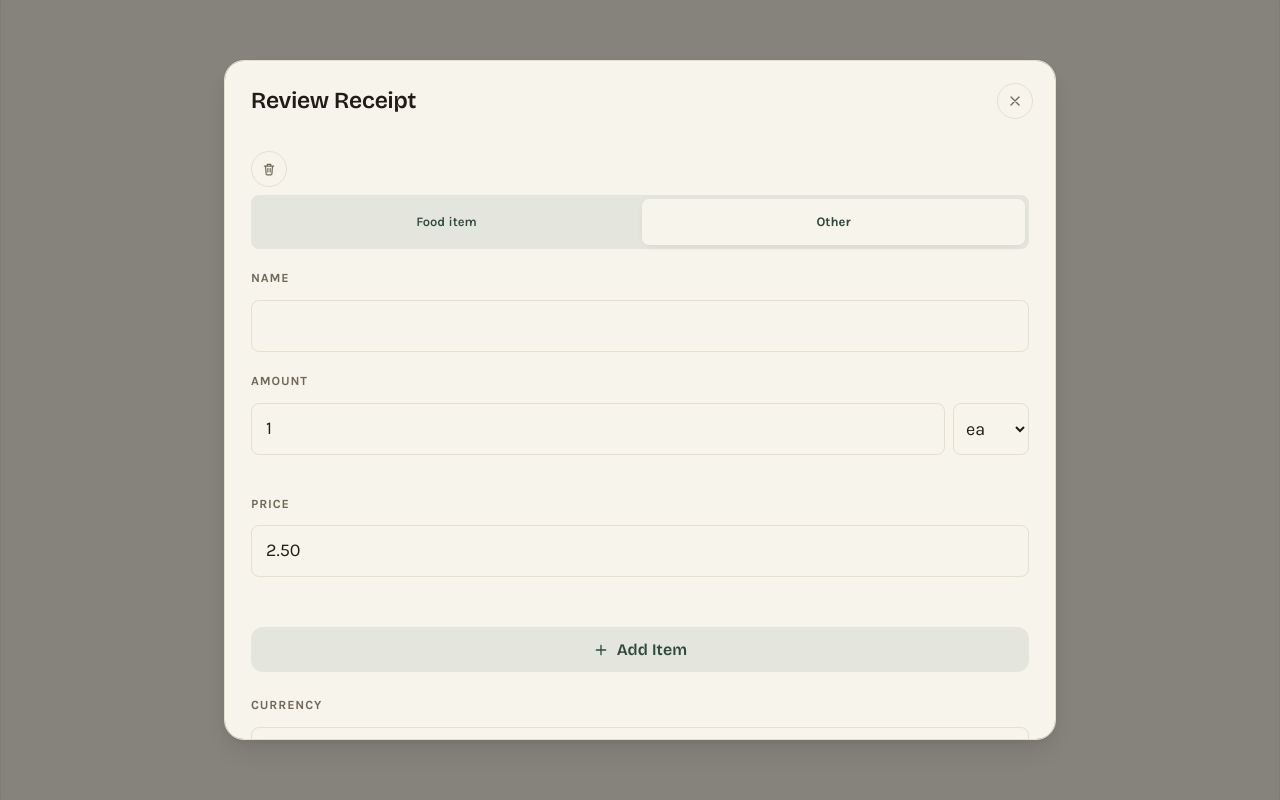
Test: ReceiptReviewModal — "Other" row also gets a search autocomplete › fills the name field when a suggestion is clicked
Type "garb" into the field labelled "Name". click: (640, 326)
box: [251, 300, 1029, 352]
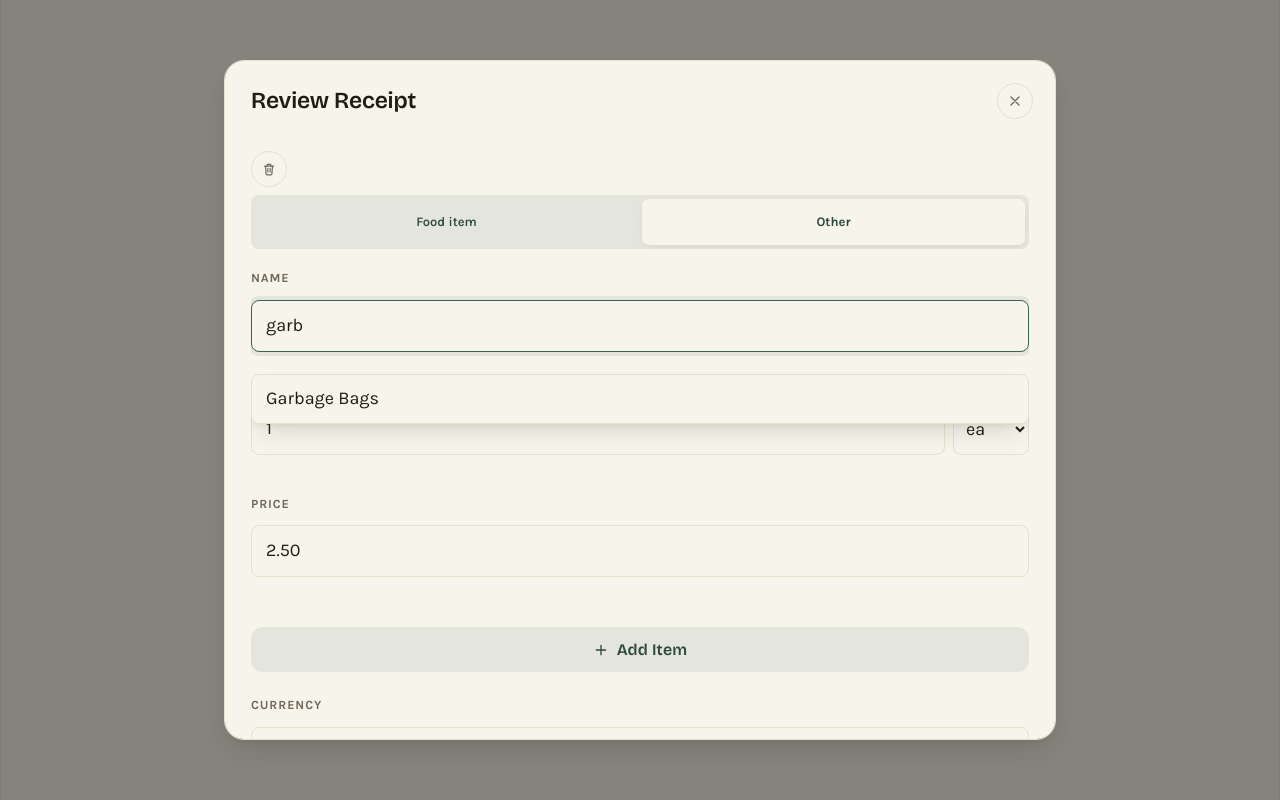
Click the button "Garbage Bags". click: (322, 398)
box: [252, 375, 1028, 423]
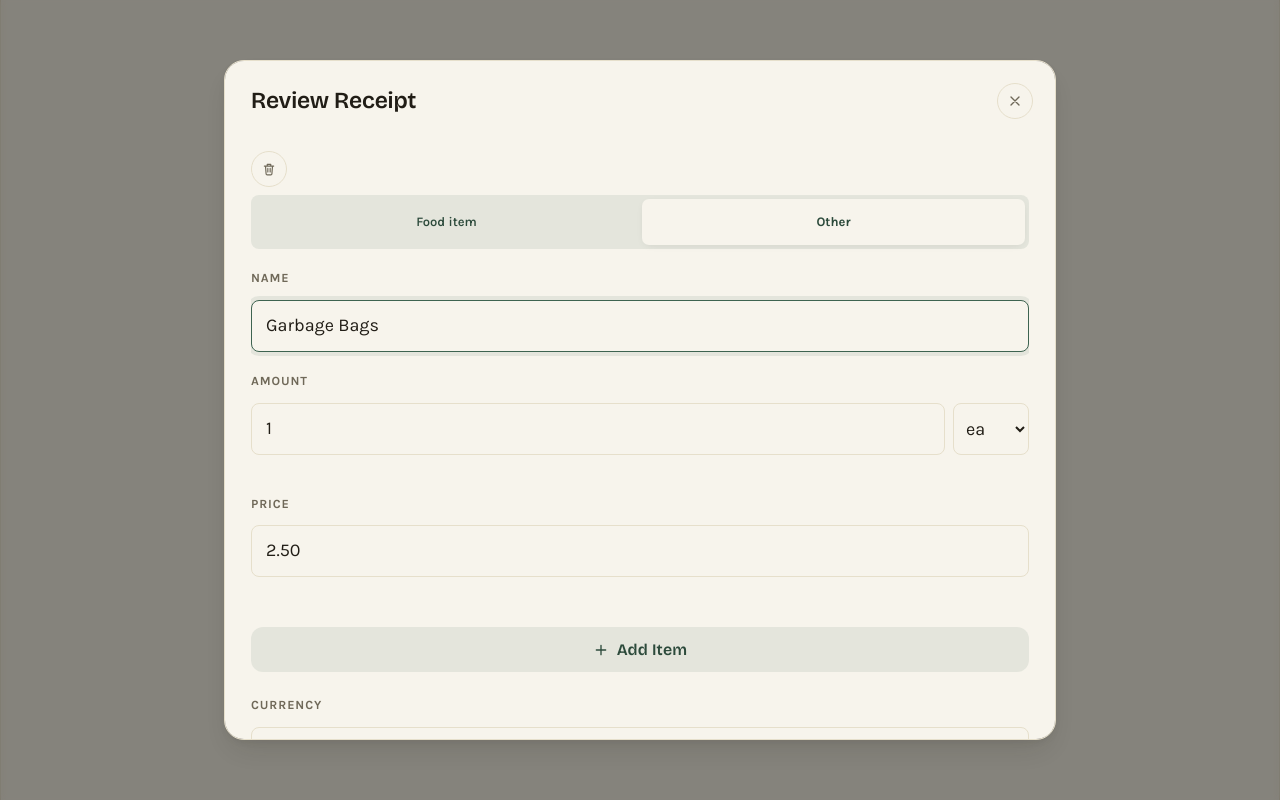
Now the field labelled "Name" holds "Garbage Bags", box [251, 300, 1029, 352]
